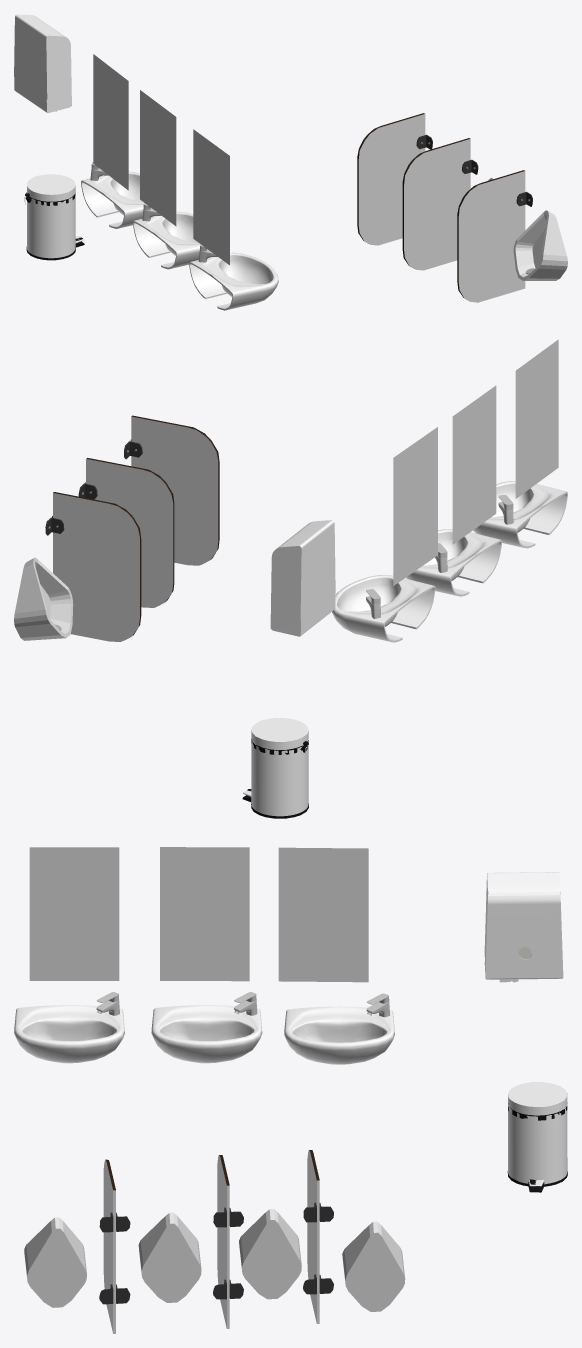
The model's file is fur_bn2_t_h_sized.glb.
3 renders of one model, top to bottom at view 1: azimuth 30°, elevation 25°; view 2: azimuth 150°, elevation 25°; view 3: azimuth 270°, elevation 25°, orthographic. The views are drawn at different scales.
Parts seen in each view (by area): view 1: CacheToilette3, CacheToilette2, CacheToilette, DistributeurPapierToilette2, PoubelleWC, Plane5, Plane6, Plane7, lavabofbx_OvallavaboWChandi, Urinoir3, lavabofbx_OvallavaboWChandi2, lavabofbx_OvallavaboWChandi3; view 2: CacheToilette, CacheToilette3, CacheToilette2, DistributeurPapierToilette2, Plane6, Plane7, Plane5, PoubelleWC, lavabofbx_OvallavaboWChandi3, Urinoir4, lavabofbx_OvallavaboWChandi, lavabofbx_OvallavaboWChandi2; view 3: Plane7, Plane5, Plane6, DistributeurPapierToilette2, PoubelleWC, lavabofbx_OvallavaboWChandi3, lavabofbx_OvallavaboWChandi2, lavabofbx_OvallavaboWChandi, Urinoir2, Urinoir3, Urinoir4, Urinoir (+3 smaller).
Part boxes in pixels (bbox=[...]): CacheToilette3: bbox=[457, 170, 532, 302]; CacheToilette2: bbox=[402, 138, 478, 270]; CacheToilette: bbox=[357, 113, 432, 245]; DistributeurPapierToilette2: bbox=[14, 14, 71, 112]; PoubelleWC: bbox=[24, 174, 84, 260]; Plane5: bbox=[193, 129, 229, 265]; Plane6: bbox=[140, 90, 176, 226]; Plane7: bbox=[93, 54, 128, 190]; lavabofbx_OvallavaboWChandi: bbox=[189, 252, 278, 310]; Urinoir3: bbox=[513, 210, 567, 280]; lavabofbx_OvallavaboWChandi2: bbox=[133, 211, 200, 269]; lavabofbx_OvallavaboWChandi3: bbox=[81, 171, 143, 228]; CacheToilette: bbox=[45, 492, 141, 641]; CacheToilette3: bbox=[124, 415, 219, 565]; CacheToilette2: bbox=[78, 458, 174, 607]; DistributeurPapierToilette2: bbox=[270, 520, 335, 636]; Plane6: bbox=[452, 385, 496, 544]; Plane7: bbox=[393, 427, 437, 585]; Plane5: bbox=[515, 339, 558, 498]; PoubelleWC: bbox=[242, 718, 308, 818]; lavabofbx_OvallavaboWChandi3: bbox=[332, 575, 435, 642]; Urinoir4: bbox=[14, 557, 73, 640]; lavabofbx_OvallavaboWChandi: bbox=[473, 481, 567, 548]; lavabofbx_OvallavaboWChandi2: bbox=[406, 529, 501, 596]; Plane7: bbox=[278, 847, 368, 982]; Plane5: bbox=[29, 847, 119, 980]; Plane6: bbox=[160, 847, 249, 981]; DistributeurPapierToilette2: bbox=[484, 872, 563, 982]; PoubelleWC: bbox=[507, 1082, 567, 1192]; lavabofbx_OvallavaboWChandi3: bbox=[284, 1006, 394, 1064]; lavabofbx_OvallavaboWChandi2: bbox=[151, 1005, 262, 1063]; lavabofbx_OvallavaboWChandi: bbox=[14, 1005, 124, 1063]; Urinoir2: bbox=[138, 1212, 201, 1302]; Urinoir3: bbox=[24, 1217, 86, 1307]; Urinoir4: bbox=[342, 1221, 405, 1311]; Urinoir: bbox=[239, 1209, 301, 1299].
Bounding box in the file's own units: 2.67 × 1.91 × 3.09.
Materials: 16 (2 with a texture image).
